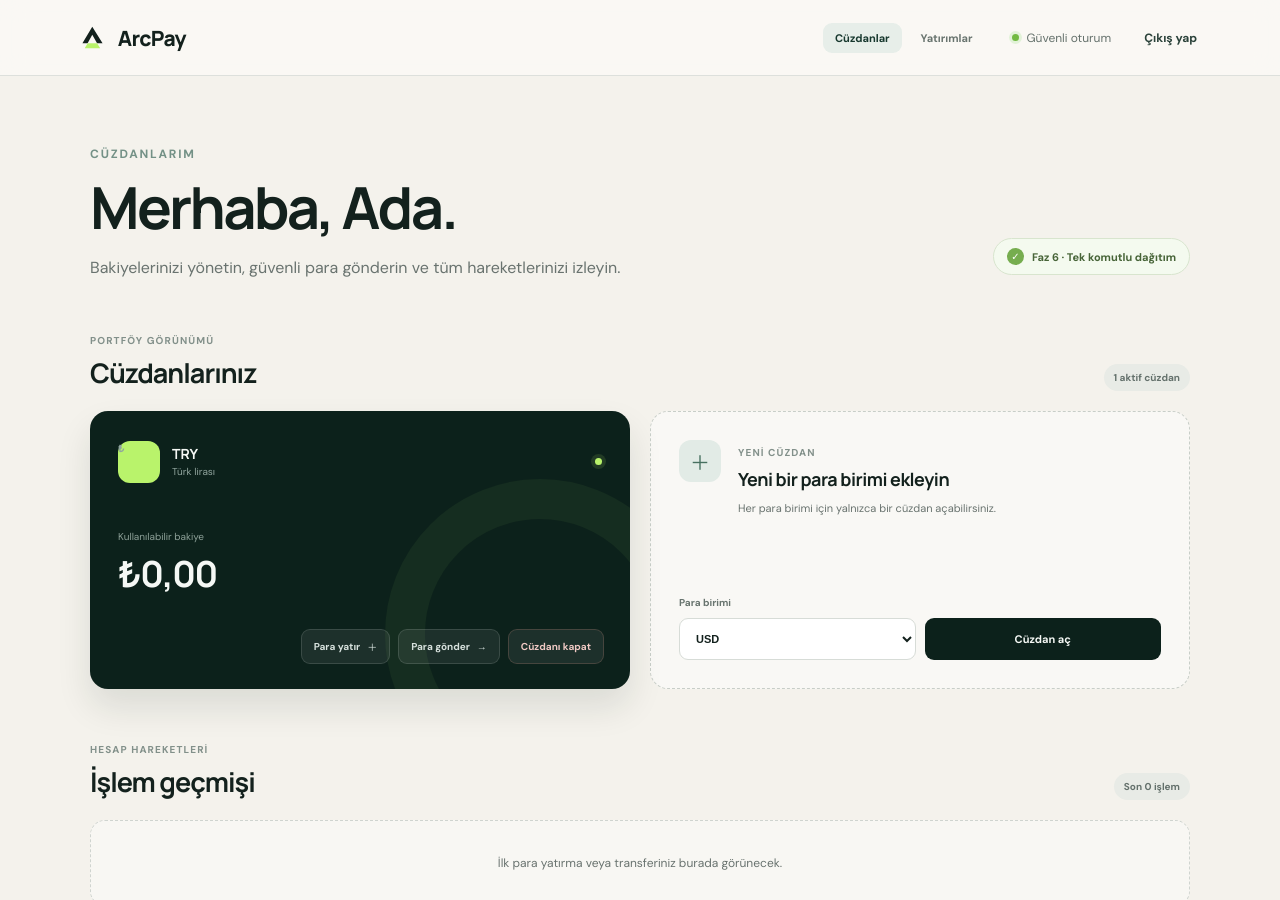
Test case: ArcPay authentication flow › closes a zero-balance wallet
Expected: the text "₺0,00" is shown, [118,549,217,598]
Click the button "Cüzdanı kapat" at (556, 647), box [508,629,604,664]
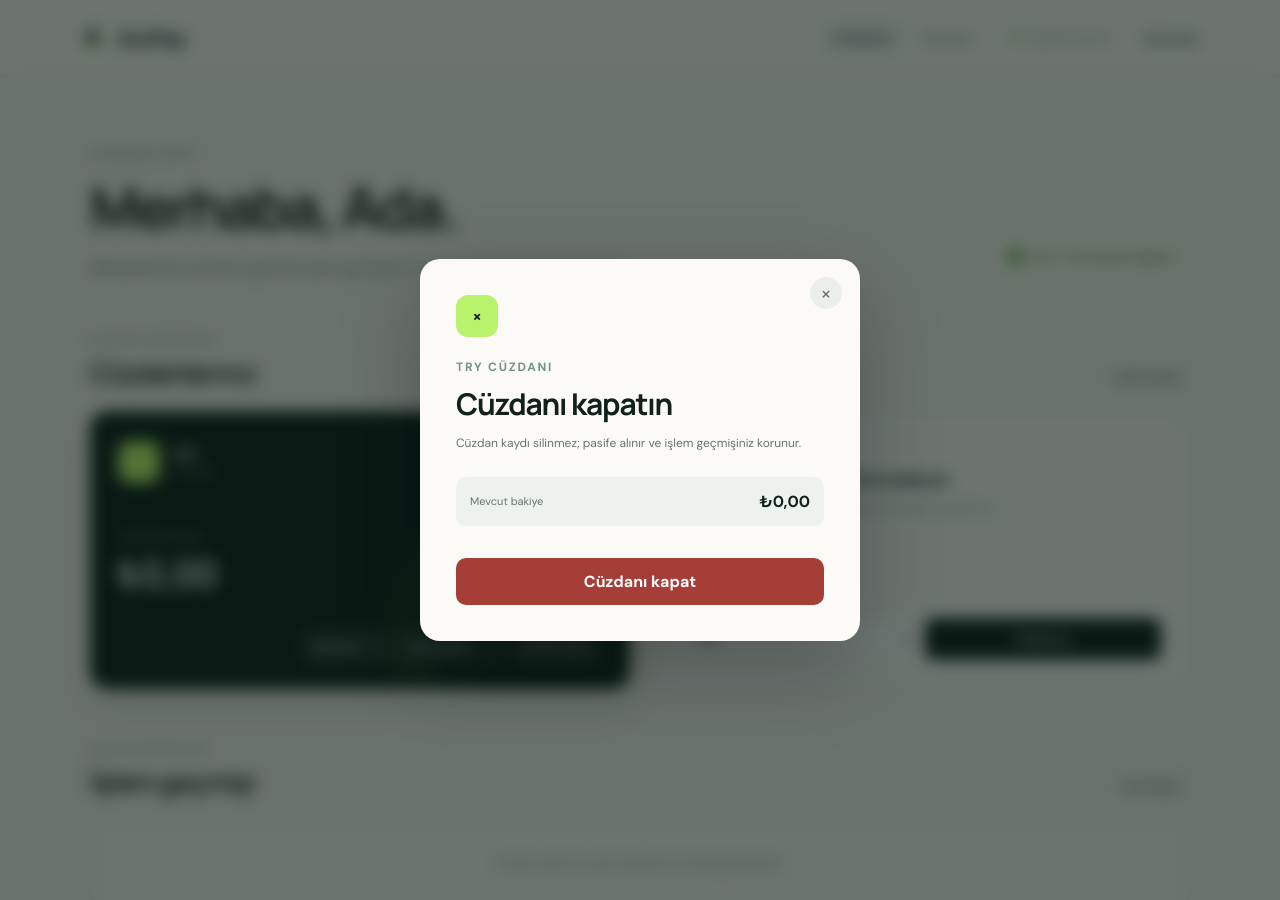
Click the button with class "danger-button" at (640, 581), box [456,558,824,605]
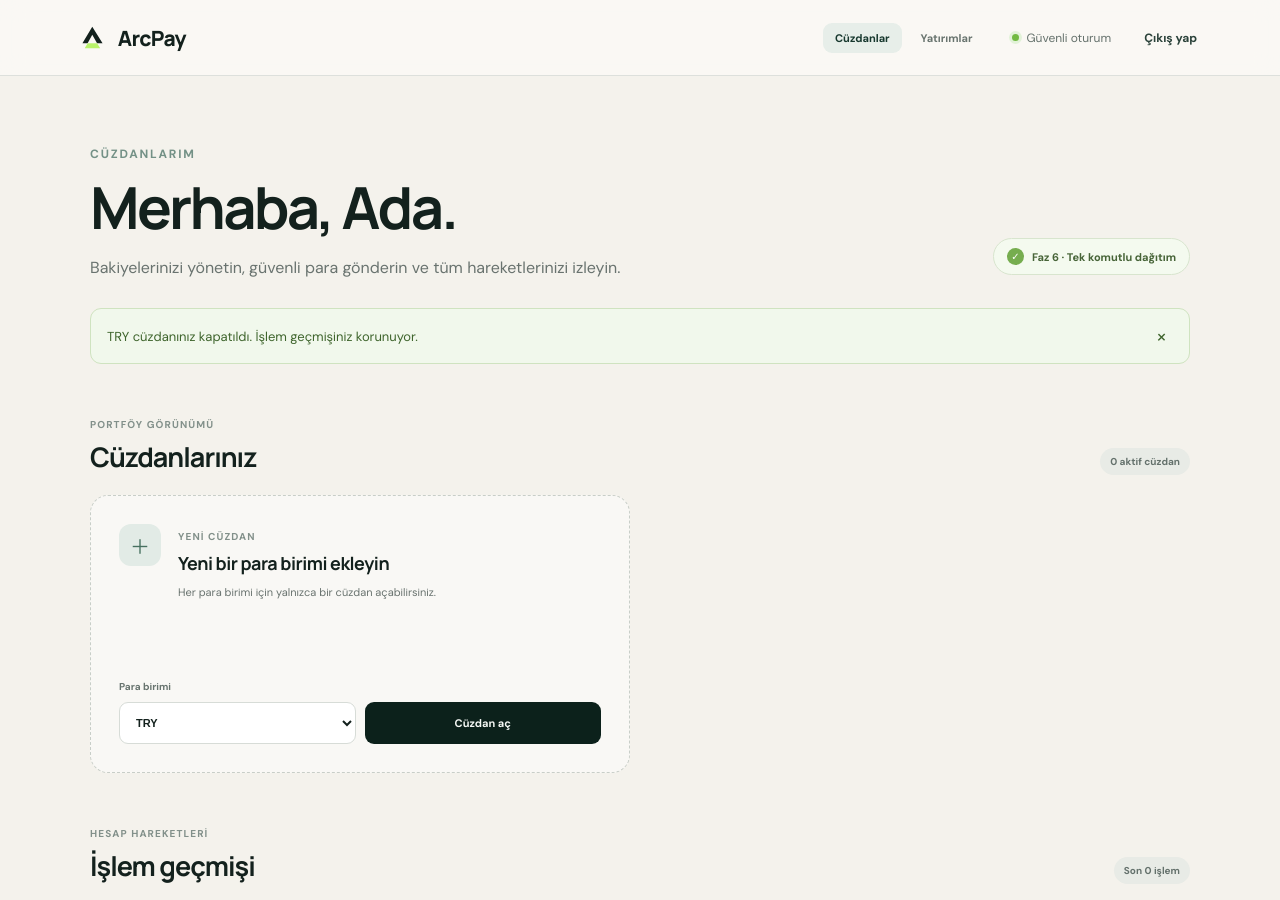
Now the text "TRY cüzdanınız kapatıldı. İşlem geçmişiniz korunuyor. ×" is shown, box [90,308,1190,364]
Now the text "0 aktif cüzdan" is shown, box [1100,448,1190,475]
